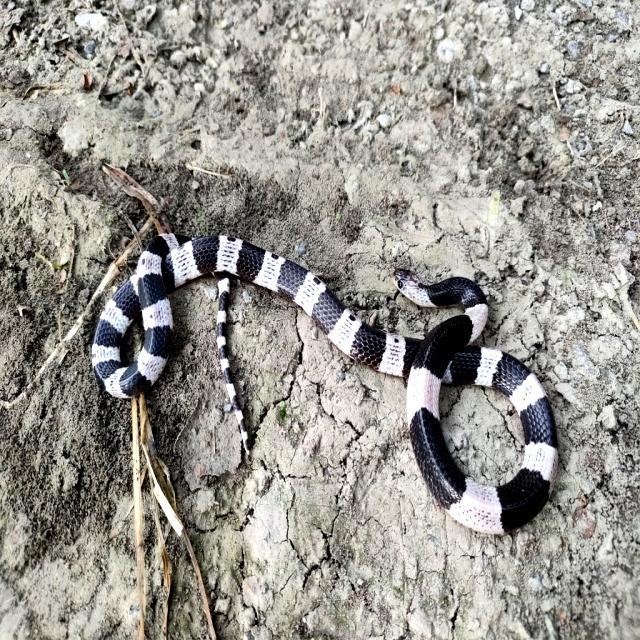Bungarus candidus: (92, 235, 557, 534)
snake: (92, 235, 557, 534)
